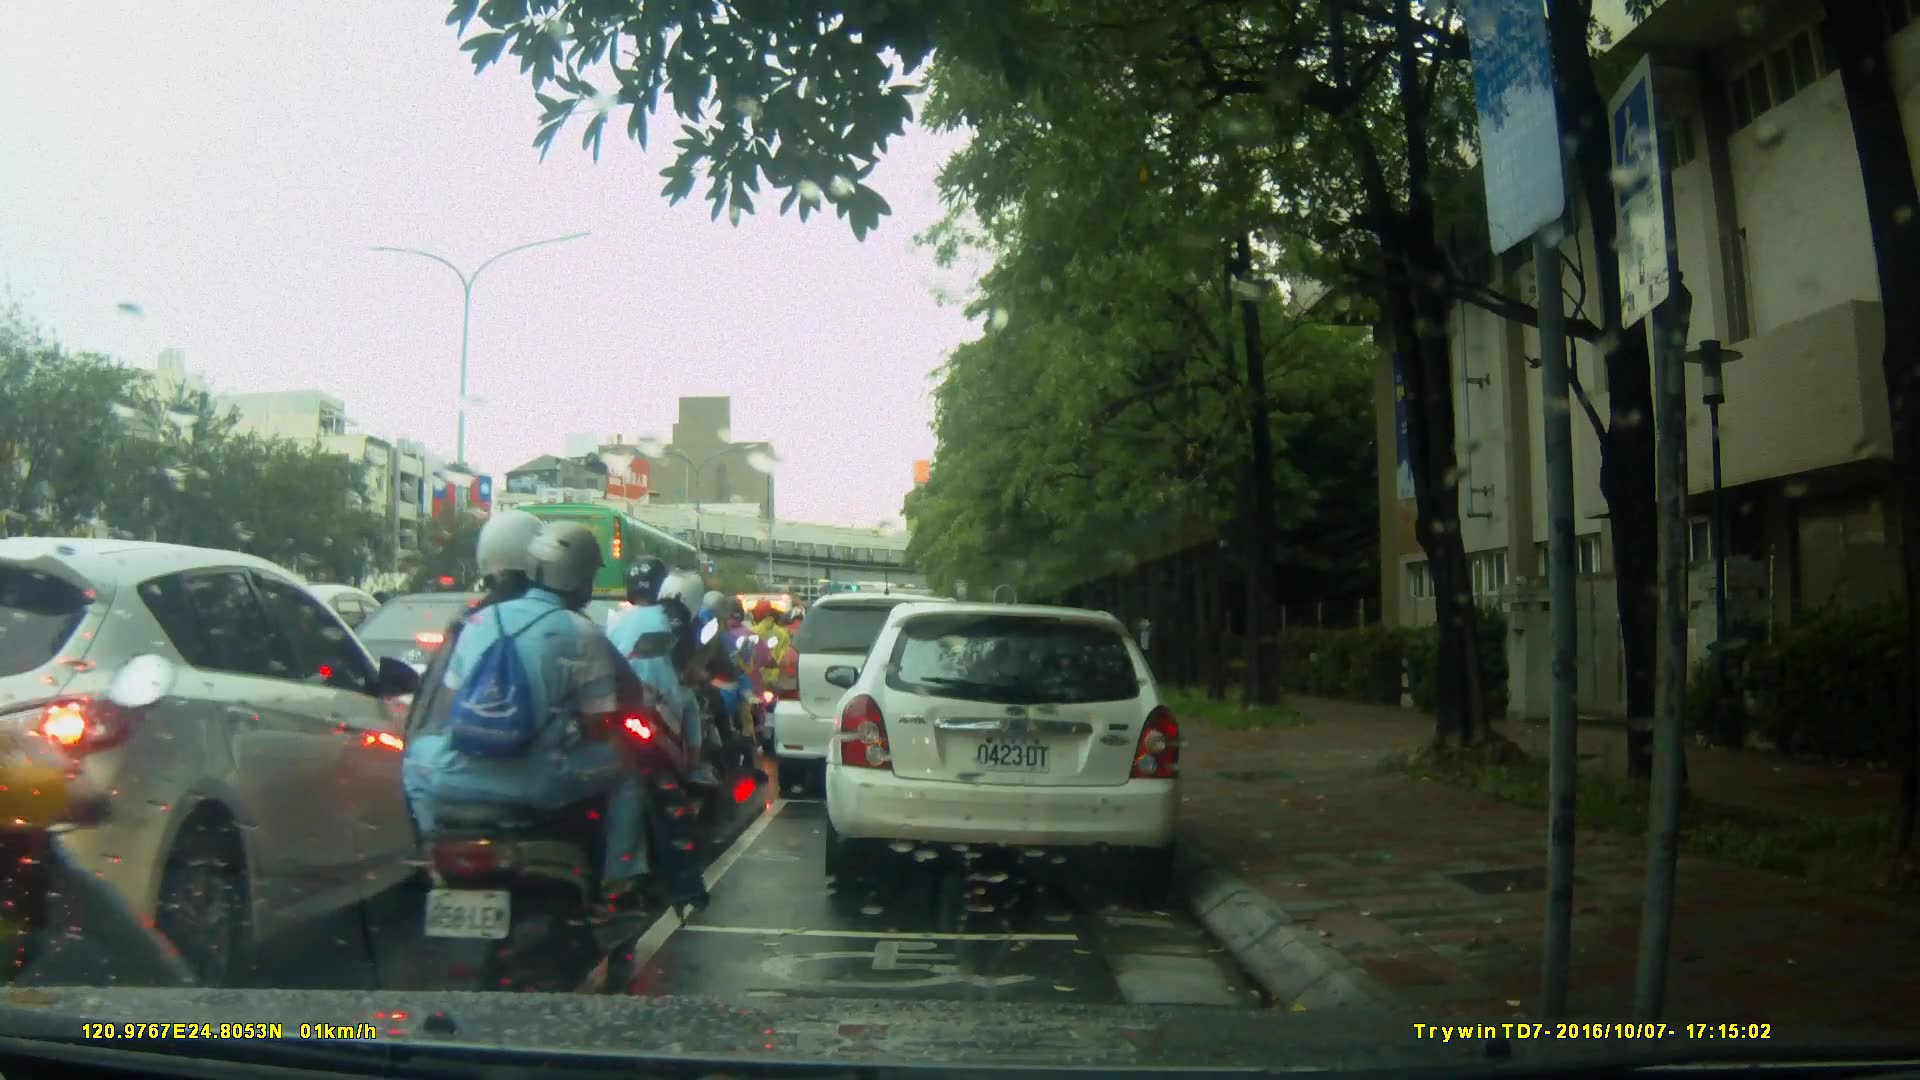rider: (399, 511, 687, 1016), (590, 562, 716, 840), (687, 589, 768, 779), (667, 584, 738, 785), (704, 598, 776, 764), (749, 598, 797, 737)
vehicle: (3, 536, 460, 987), (831, 592, 1196, 897), (312, 590, 629, 776), (772, 590, 999, 803), (496, 501, 712, 636)
